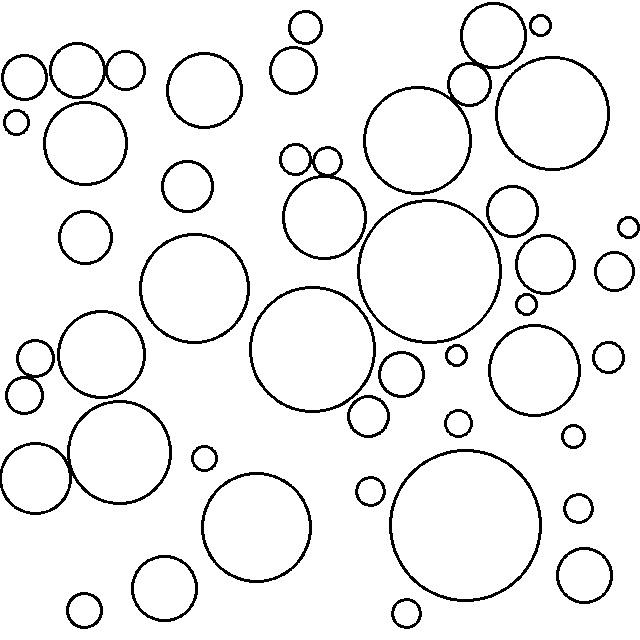circle: (386, 446, 545, 603), (353, 196, 504, 344), (245, 284, 378, 416), (495, 52, 613, 174), (199, 468, 315, 584), (137, 228, 252, 345), (361, 82, 475, 196), (63, 397, 175, 508), (487, 322, 584, 422), (55, 306, 148, 402), (281, 173, 370, 262), (41, 99, 131, 187), (163, 47, 247, 131), (0, 440, 74, 516), (129, 551, 201, 624), (457, 0, 530, 70), (513, 233, 578, 299), (553, 545, 618, 605), (55, 209, 117, 268), (49, 40, 108, 100), (159, 158, 217, 215), (485, 182, 541, 239), (377, 349, 429, 402), (267, 46, 321, 97), (1, 52, 50, 104), (446, 58, 493, 110), (592, 247, 638, 297), (346, 392, 392, 440), (104, 47, 150, 93), (3, 374, 47, 418), (13, 337, 56, 380), (63, 589, 108, 630), (284, 8, 327, 46), (589, 336, 628, 376), (386, 593, 426, 632), (276, 138, 314, 178), (560, 488, 598, 526), (352, 473, 389, 511), (311, 143, 346, 176), (189, 441, 221, 477), (443, 405, 476, 439), (557, 419, 590, 452), (2, 107, 33, 139), (441, 341, 471, 370), (612, 211, 640, 242), (512, 291, 541, 317), (528, 13, 556, 38)
